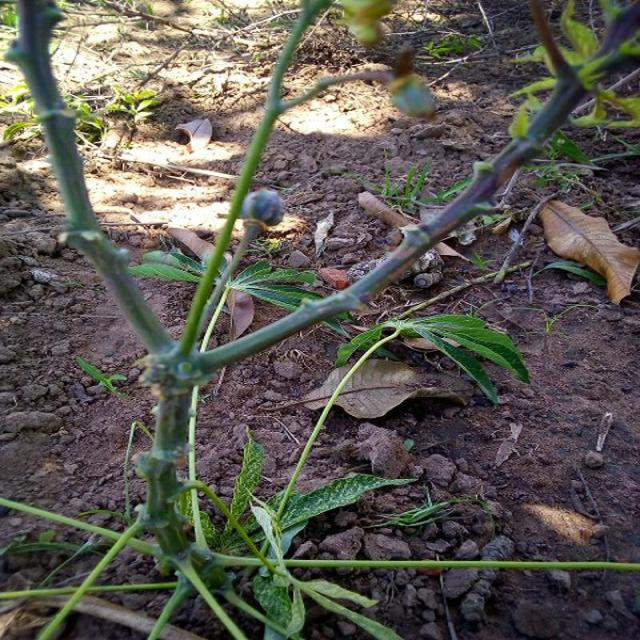cassava leaf: (334, 312, 530, 406), (538, 197, 638, 305)
